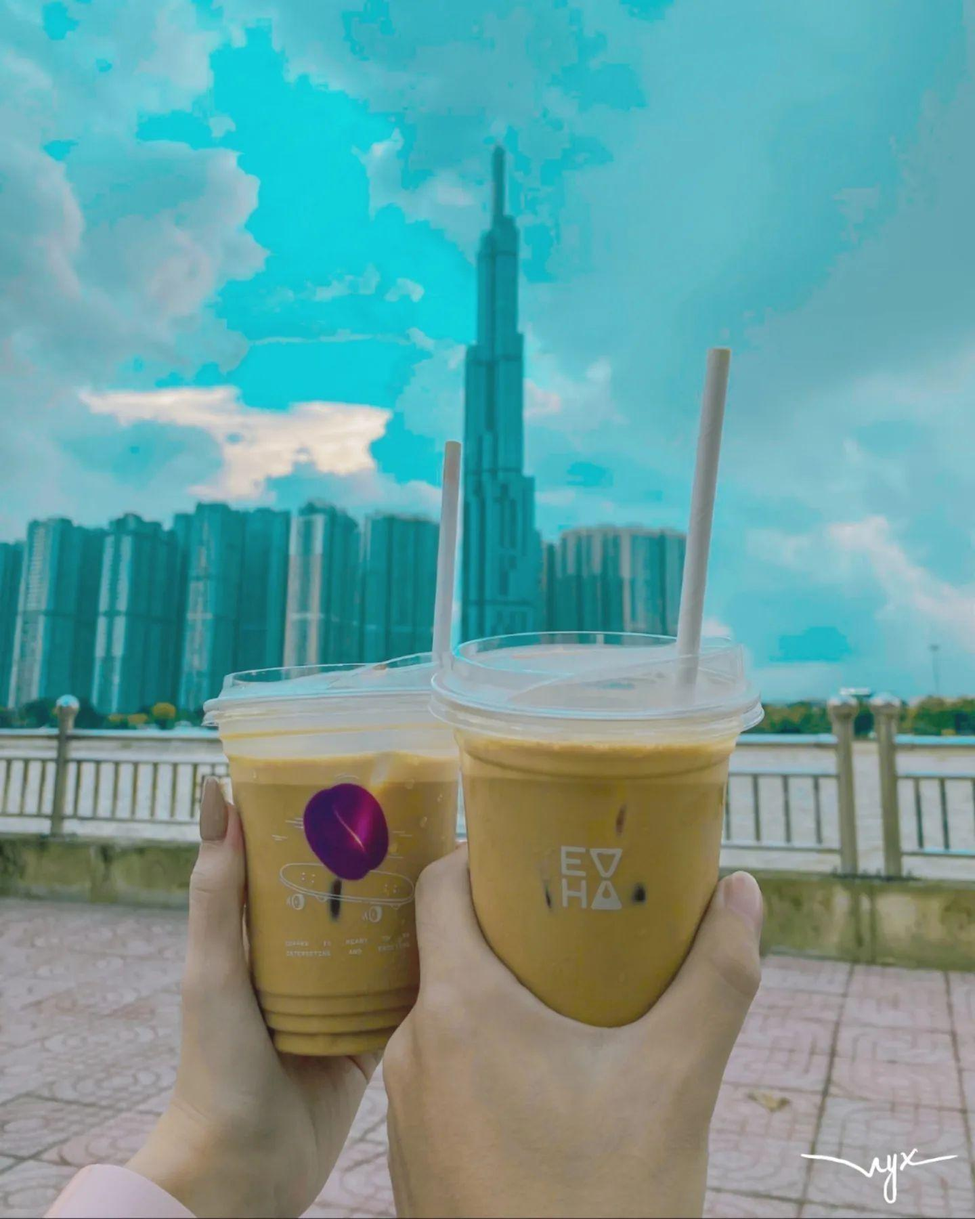cup-disposable: (429, 621, 772, 1033), (204, 660, 466, 1063)
